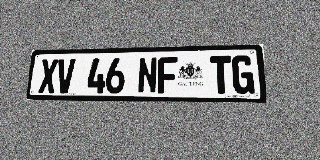4: (87, 58, 107, 93)
6: (105, 58, 125, 93)
F: (157, 57, 177, 94)
G: (231, 55, 255, 94)
N: (137, 57, 157, 94)
T: (210, 56, 232, 94)
V: (56, 59, 75, 93)
X: (38, 59, 58, 93)
